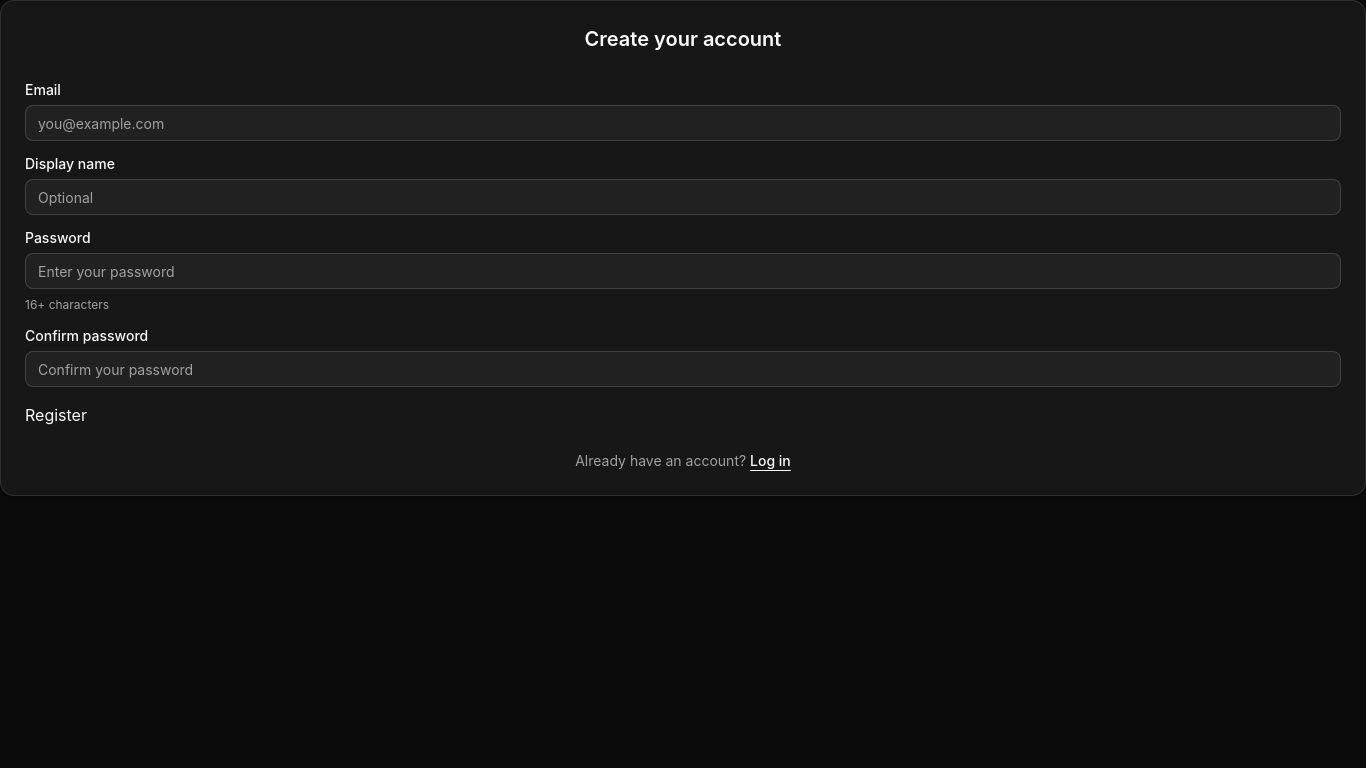
Test case: RegisterView › error handling › shows error on 409 (email already registered)
The width and height of the screenshot is (1366, 768).
Type "taken@example.com" into the field labelled "Email".
click(683, 123); type("taken@example.com")  # box [25,105,1341,141]
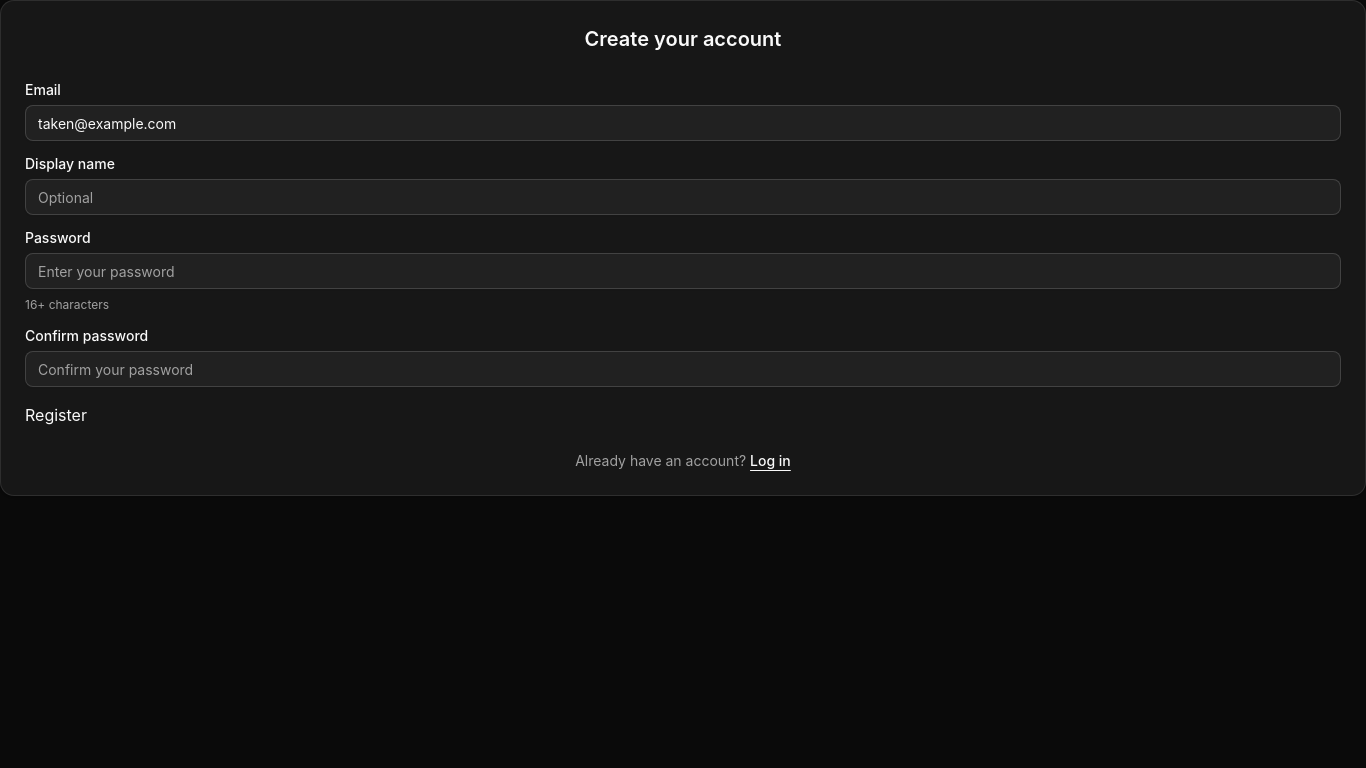
Type "abcdefghijklmnop" into the password field labelled "Password".
click(683, 271); type("abcdefghijklmnop")  # box [25,253,1341,289]
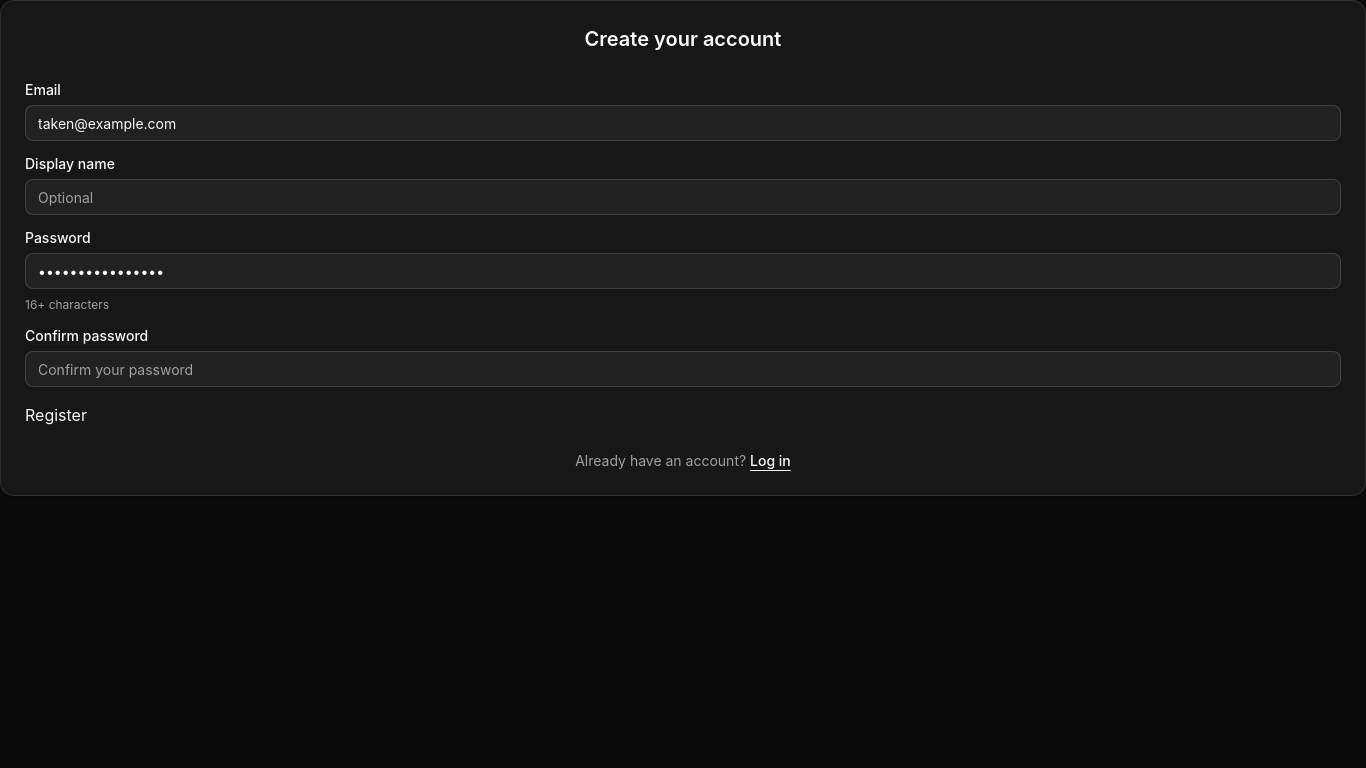
Type "abcdefghijklmnop" into the password field with id "confirm-password".
click(683, 369); type("abcdefghijklmnop")  # box [25,351,1341,387]
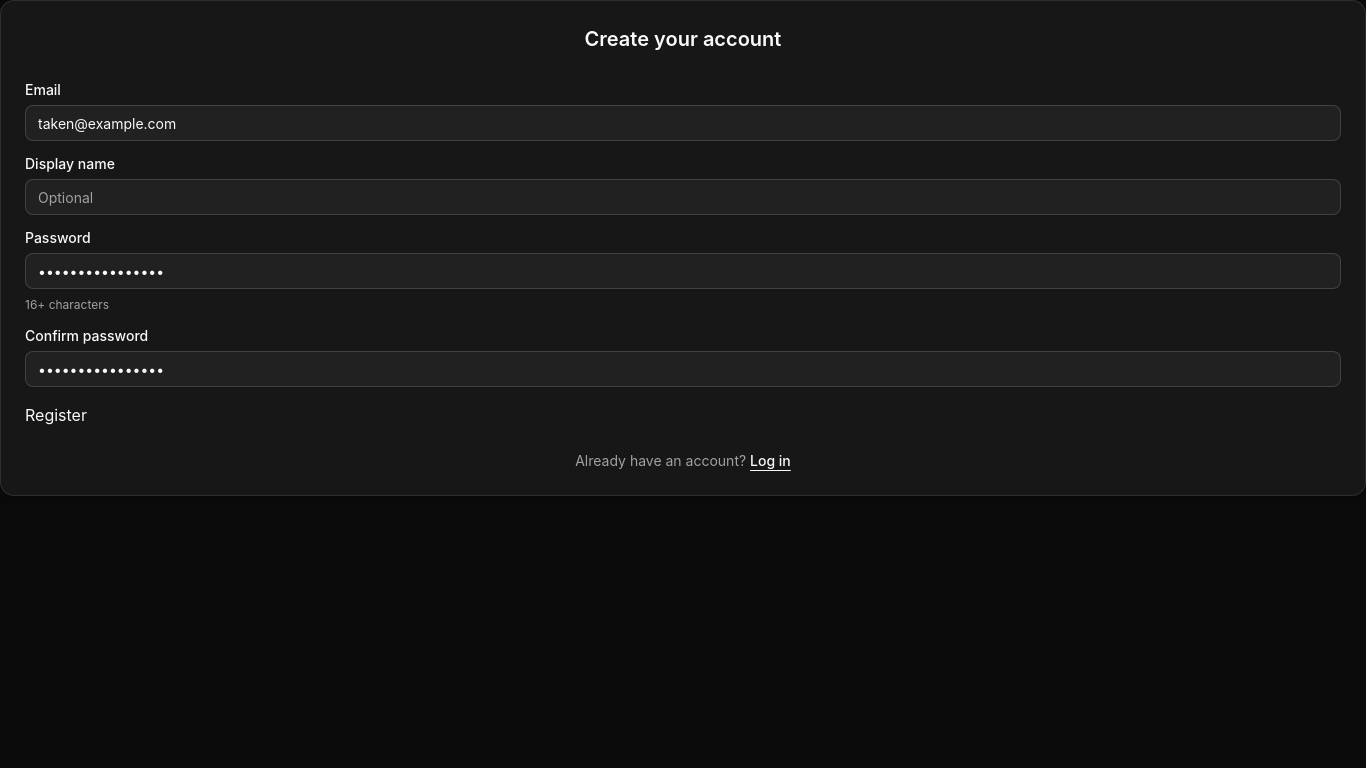
Submit the form, box [25,83,1341,427]
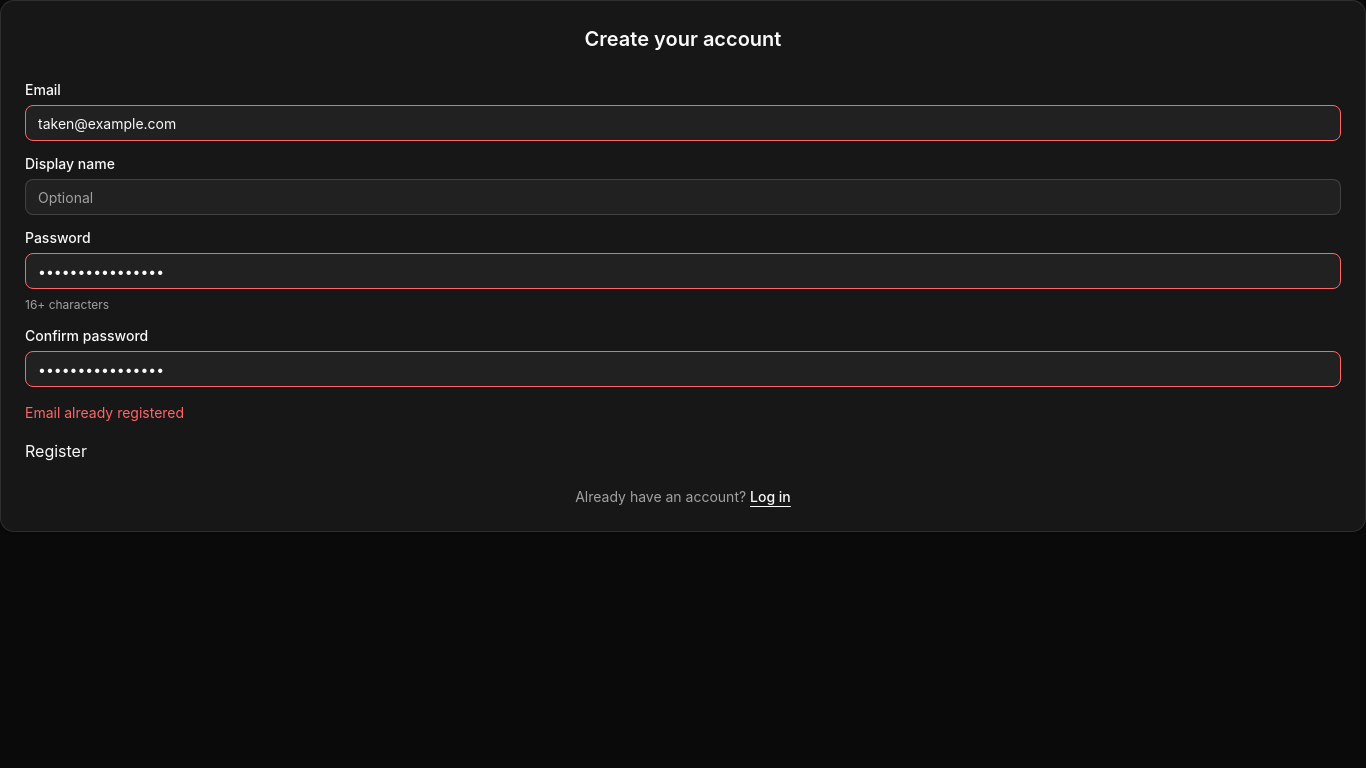
expect the text "Email already registered" is shown: met, box [25,404,184,421]
